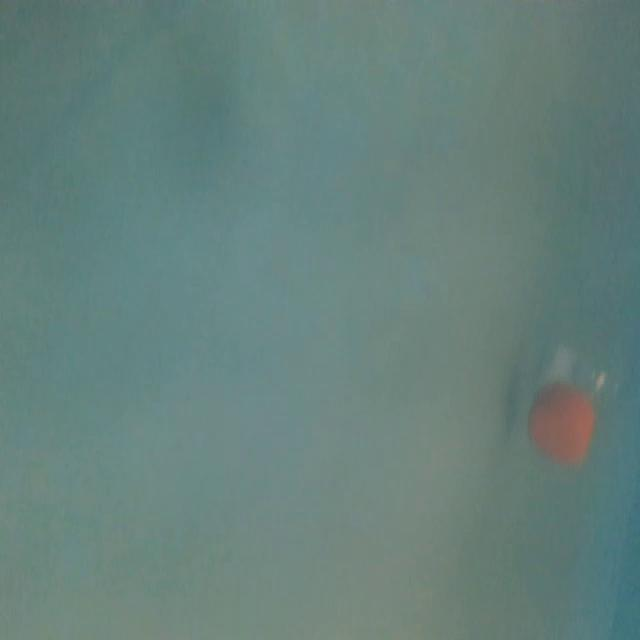plastic bottle: (523, 286, 625, 466)
